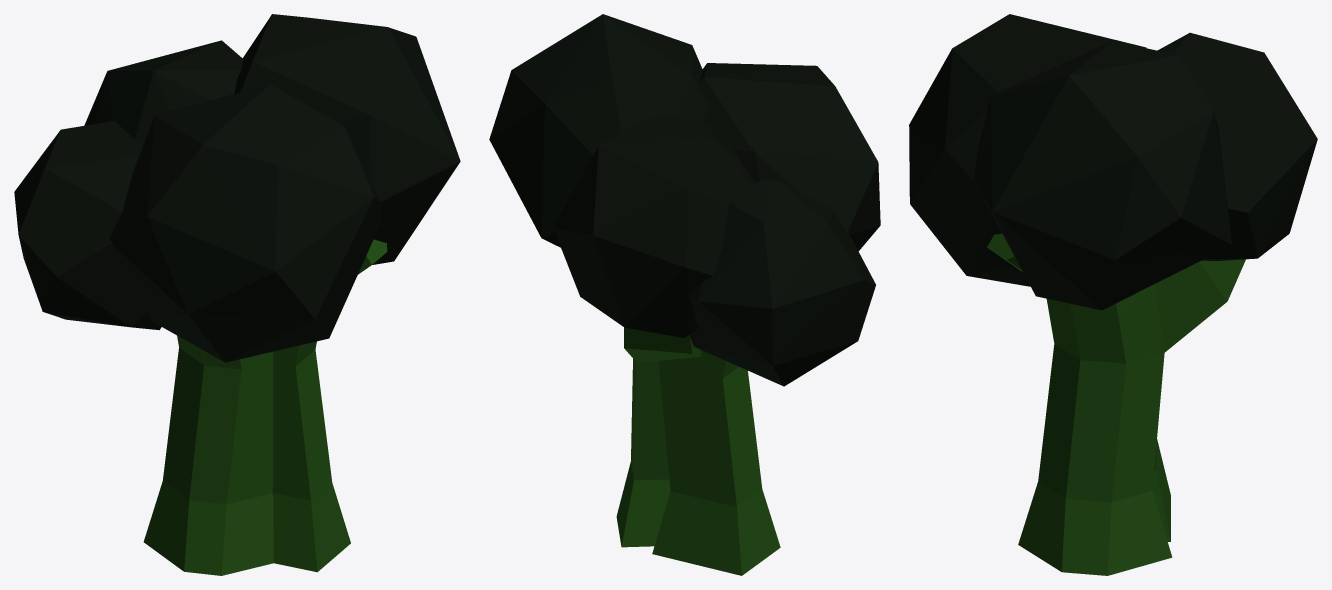
File: Broccoli.obj
3 renders of one model, left to right at view 1: azimuth 30°, elevation 25°; view 2: azimuth 150°, elevation 25°; view 3: azimuth 270°, elevation 25°, orthographic. The views are drawn at different scales.
Visible parts, largest first — view 1: Broccoli_Cube.010; view 2: Broccoli_Cube.010; view 3: Broccoli_Cube.010.
Part boxes in pixels (x1,y1,x2,y2): Broccoli_Cube.010: (14, 14, 460, 575); Broccoli_Cube.010: (489, 14, 880, 575); Broccoli_Cube.010: (909, 14, 1317, 575).
Bounding box in the file's own units: 0.7515 × 0.8996 × 0.6444.
